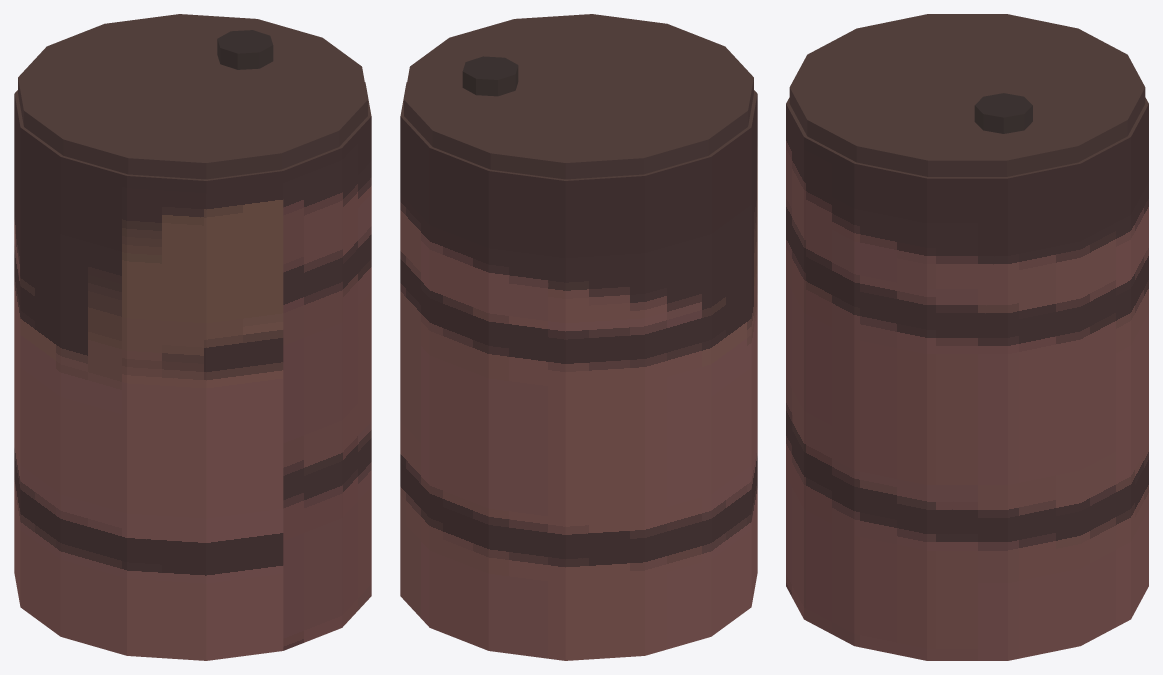
Rendered from Building_AncientChembarrel.glb.
The picture shows the model from 3 angles, left to right: view 1: azimuth 30°, elevation 25°; view 2: azimuth 150°, elevation 25°; view 3: azimuth 270°, elevation 25°; orthographic projection.
Parts seen in each view (by area): view 1: AncientChembarrel; view 2: AncientChembarrel; view 3: AncientChembarrel.
Part boxes in pixels (x1,y1,x2,y2): AncientChembarrel: [14, 14, 371, 660]; AncientChembarrel: [400, 14, 757, 660]; AncientChembarrel: [786, 14, 1148, 660].
Bounding box in the file's own units: 0.585 × 0.94 × 0.6.
1 material, 1 textured.
